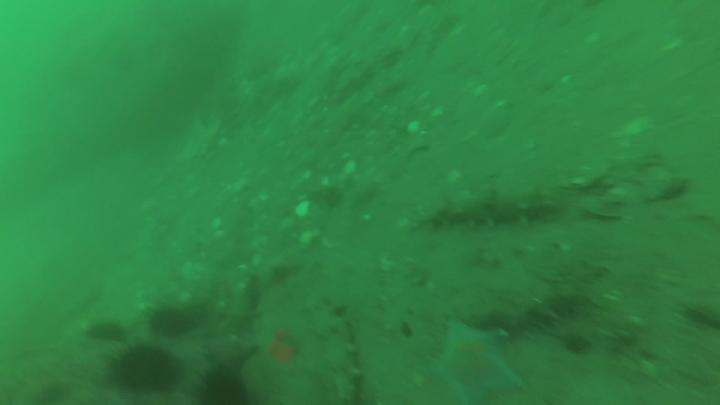echinus: (114, 351, 177, 395), (199, 374, 248, 405), (150, 309, 193, 338), (88, 321, 124, 341)
holothurian: (308, 299, 365, 404), (413, 194, 556, 232), (471, 297, 591, 332), (219, 272, 260, 340)
starfish: (423, 322, 527, 404), (201, 336, 255, 370)
